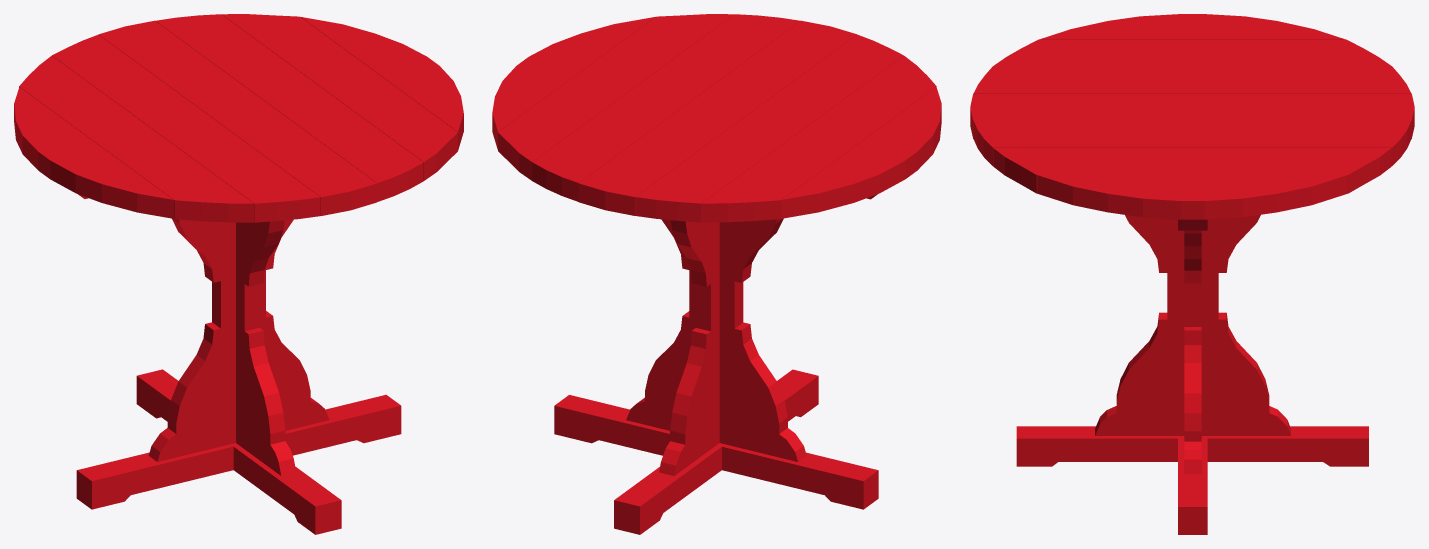
File: stolic.fbx
The picture shows the model from 3 angles, left to right: view 1: azimuth 30°, elevation 25°; view 2: azimuth 150°, elevation 25°; view 3: azimuth 270°, elevation 25°; orthographic projection.
Visible parts, largest first — view 1: medieval_wooden_round small table_low; view 2: medieval_wooden_round small table_low; view 3: medieval_wooden_round small table_low.
Part boxes in pixels (x1,y1,x2,y2): medieval_wooden_round small table_low: [14, 14, 463, 534]; medieval_wooden_round small table_low: [492, 14, 941, 534]; medieval_wooden_round small table_low: [970, 14, 1414, 534].
Bounding box in the file's own units: 85.97 × 75.59 × 86.32.
